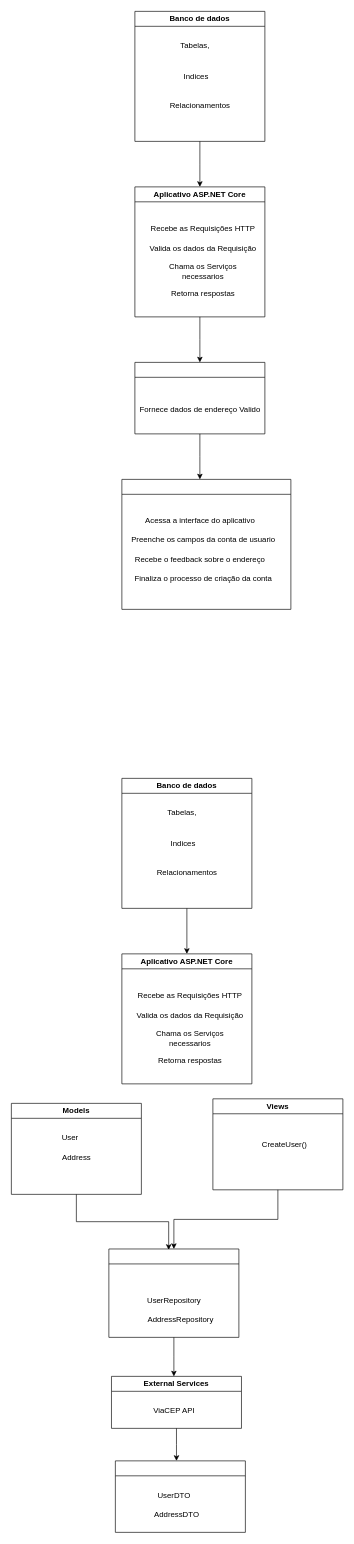
This 354x1544 diagram has some shape labels left out. The box of each missing label's shape, as (x1, y1, x2, y2) in pixels:
API ViaCEP: (134, 362, 265, 434)
Cliente Navegador: (121, 479, 291, 609)
Data Transfer: (115, 1460, 245, 1532)
Vertical Container: (108, 1248, 239, 1337)
